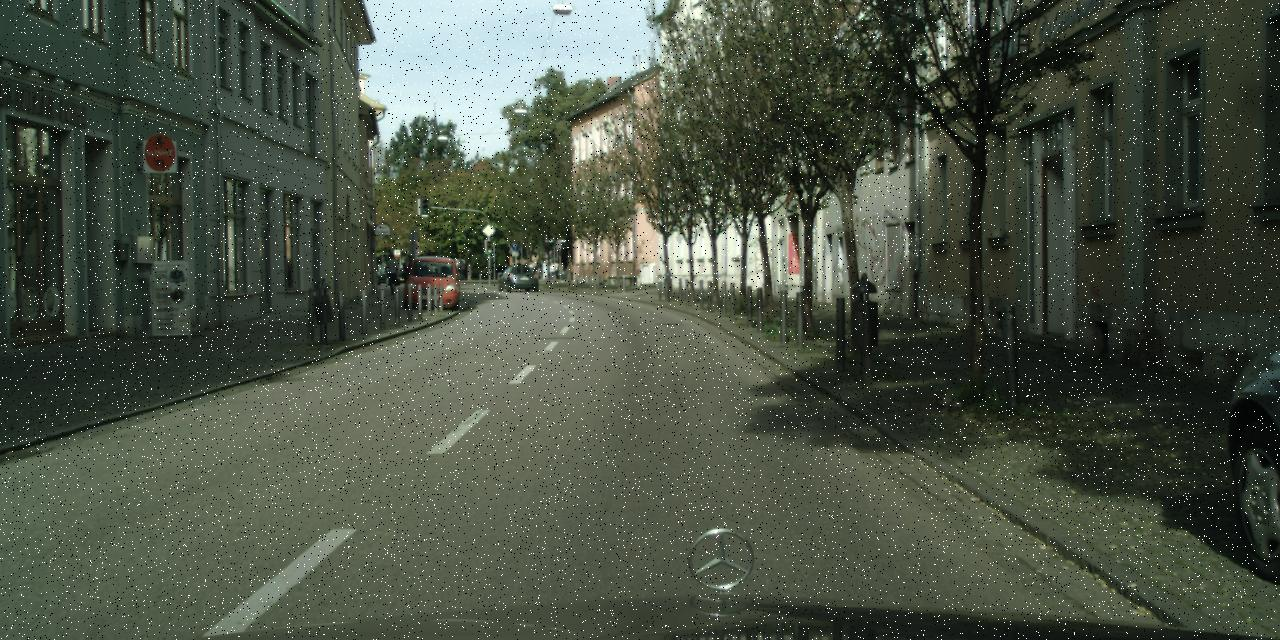ped: (384, 254, 399, 294), (402, 256, 414, 288), (550, 258, 564, 281), (533, 260, 541, 279), (542, 258, 548, 281), (457, 260, 464, 277)
